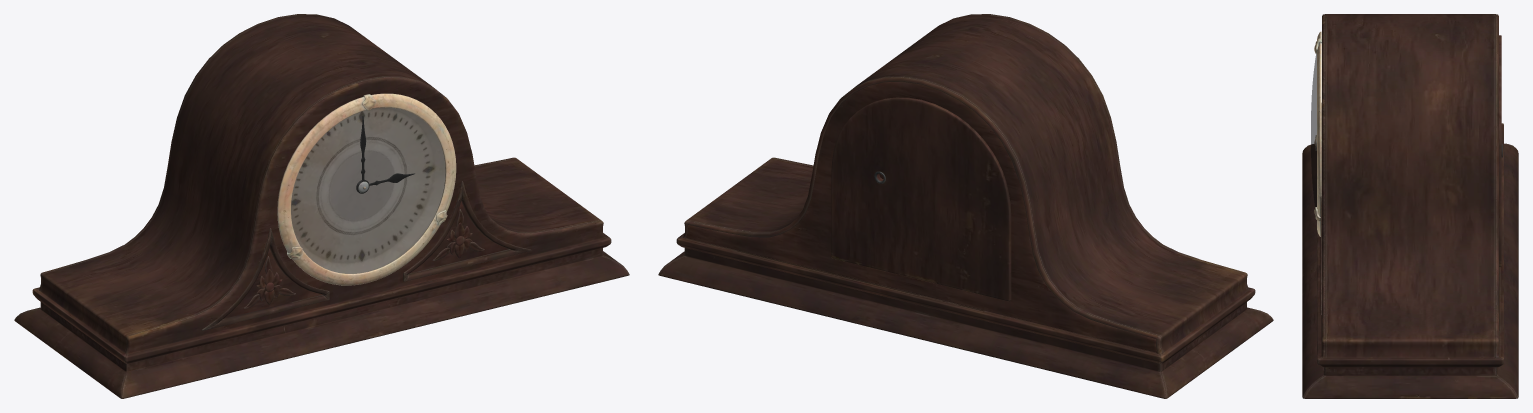
File: mantel_clock_01.glb
3 views of the same model, side by side, from view 1: azimuth 30°, elevation 25°; view 2: azimuth 150°, elevation 25°; view 3: azimuth 270°, elevation 25° (orthographic).
Visible parts, largest first — view 1: mantel_clock_01, mantel_clock_01_glass; view 2: mantel_clock_01; view 3: mantel_clock_01, mantel_clock_01_glass.
Boxes of the visible parts, left/top/right/bottom form: mantel_clock_01: left=14, top=14, right=629, bottom=398; mantel_clock_01_glass: left=291, top=107, right=445, bottom=273; mantel_clock_01: left=658, top=14, right=1273, bottom=398; mantel_clock_01: left=1302, top=14, right=1518, bottom=398; mantel_clock_01_glass: left=1311, top=53, right=1316, bottom=207.
Size of the model in its own units: 0.3423 by 0.1605 by 0.1262.
2 materials, 2 textured.
